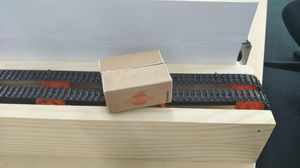box1: (95, 48, 174, 111)
